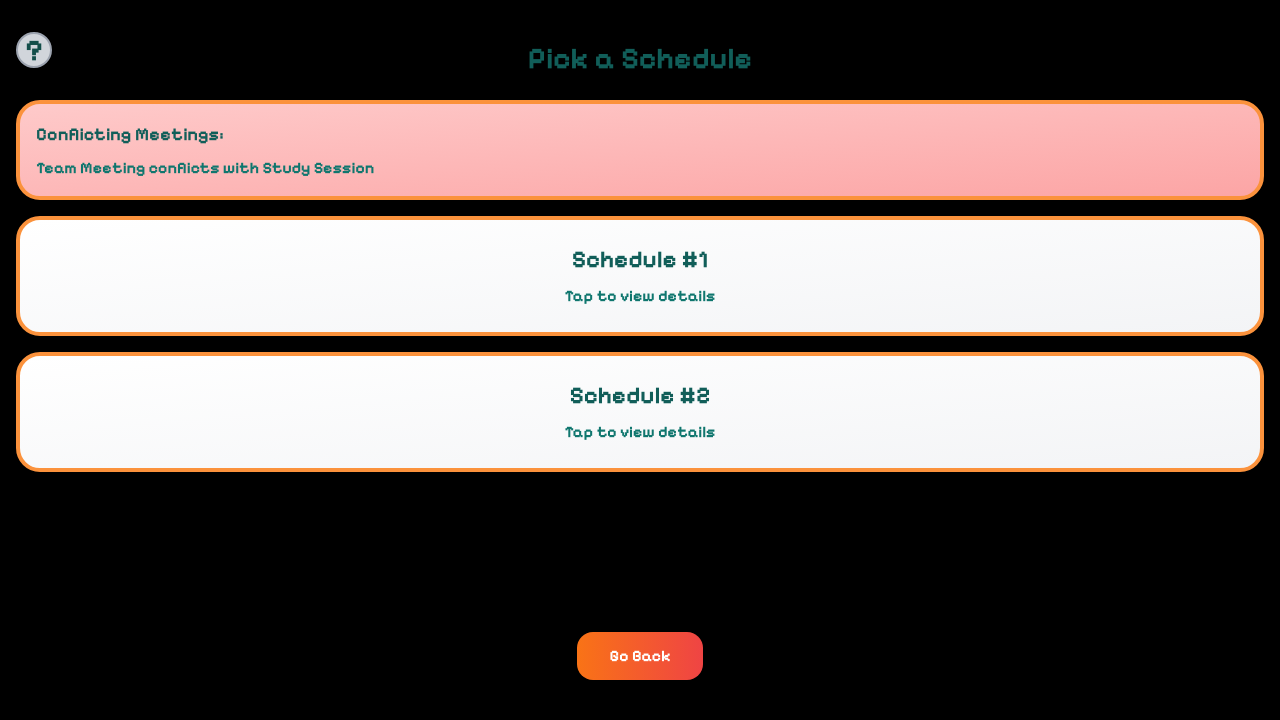
Scenario: SchedulePicker Component › displays "None" when no chores exist
Click the button with test id "schedule-button-2" at (640, 412), box [16, 352, 1264, 472]
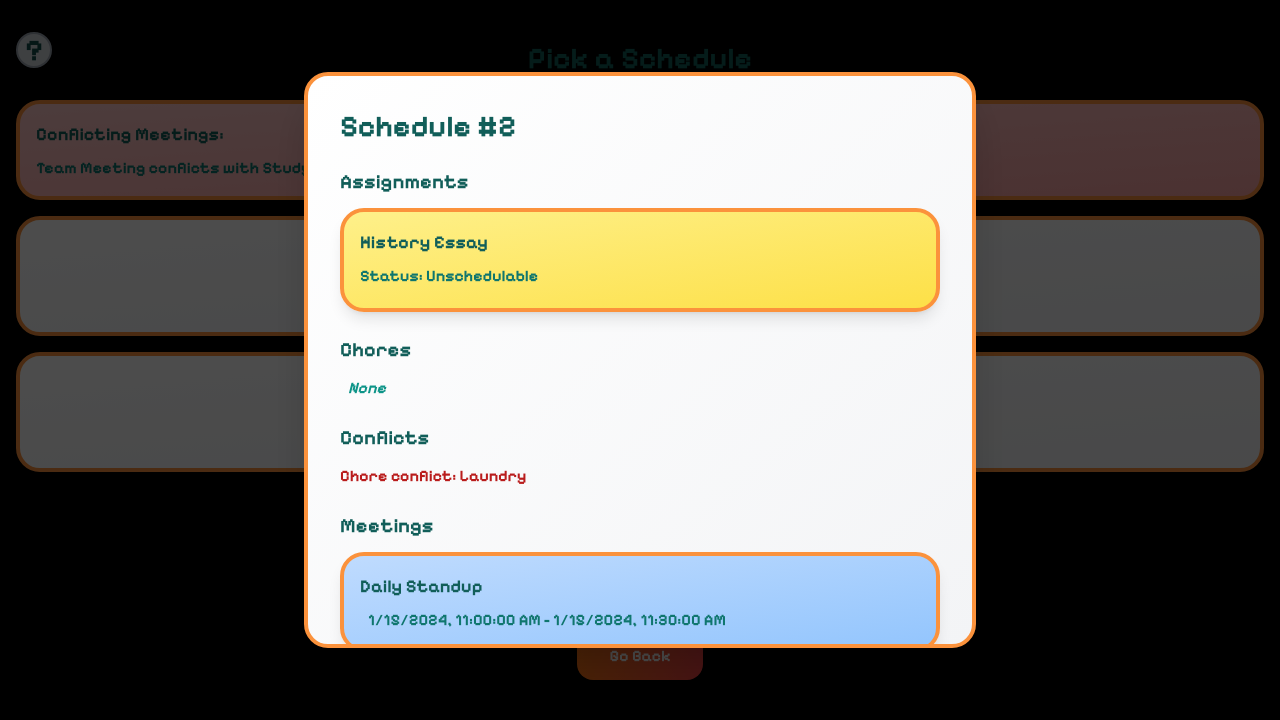
Now the text with test id "chores-none" reads "None", box [348, 378, 386, 397]
